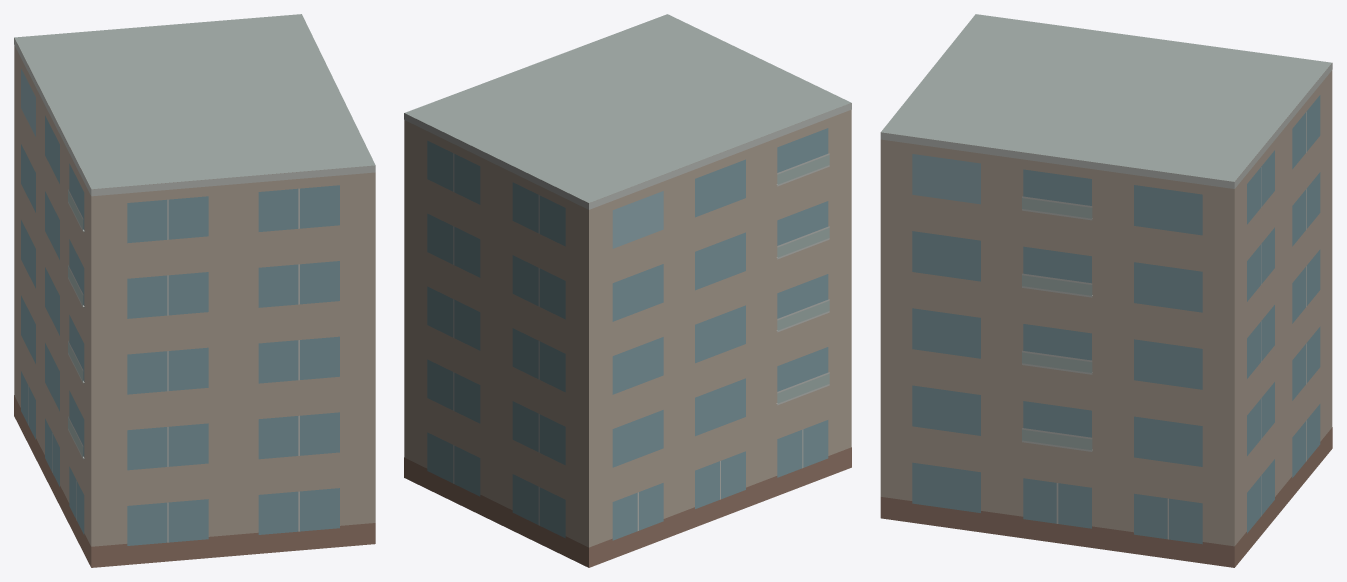
Rendered from survey-upis-32967106.glb.
3 renders of one model, left to right at view 1: azimuth 30°, elevation 25°; view 2: azimuth 150°, elevation 25°; view 3: azimuth 270°, elevation 25°, orthographic. The views are drawn at different scales.
Visible parts, largest first — view 1: survey-upis-32967106.tmp; view 2: survey-upis-32967106.tmp; view 3: survey-upis-32967106.tmp.
Boxes of the visible parts, x1,y1,x2,y2 form: survey-upis-32967106.tmp: (14, 14, 375, 567); survey-upis-32967106.tmp: (404, 14, 851, 567); survey-upis-32967106.tmp: (880, 14, 1332, 567).
Size of the model in its own units: 12.23 by 13.1 by 13.9.
